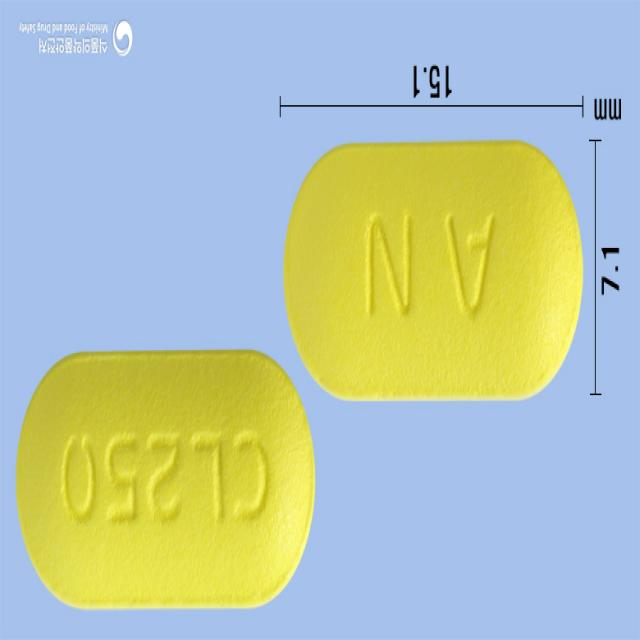Clararoxin: (281, 141, 583, 401), (14, 350, 316, 608)
